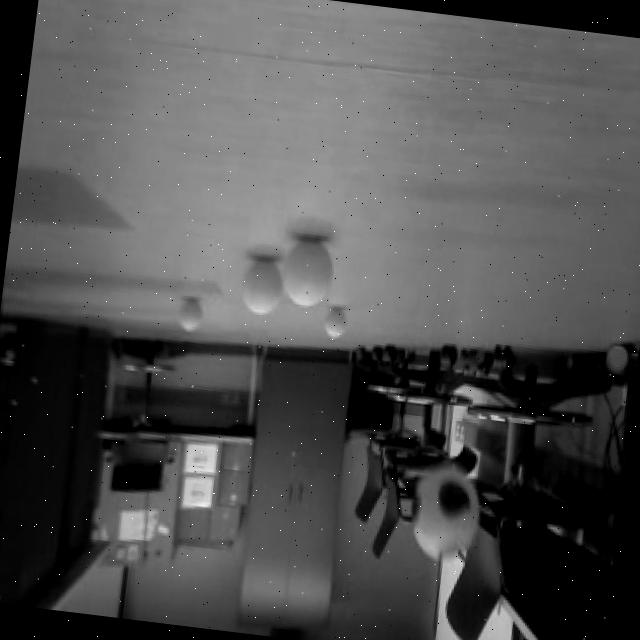ping-pong-ball: (401, 458, 484, 568), (278, 232, 336, 310), (227, 244, 285, 319), (170, 293, 208, 335), (316, 302, 350, 342)
